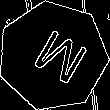M_SW: (20, 23, 86, 89)
